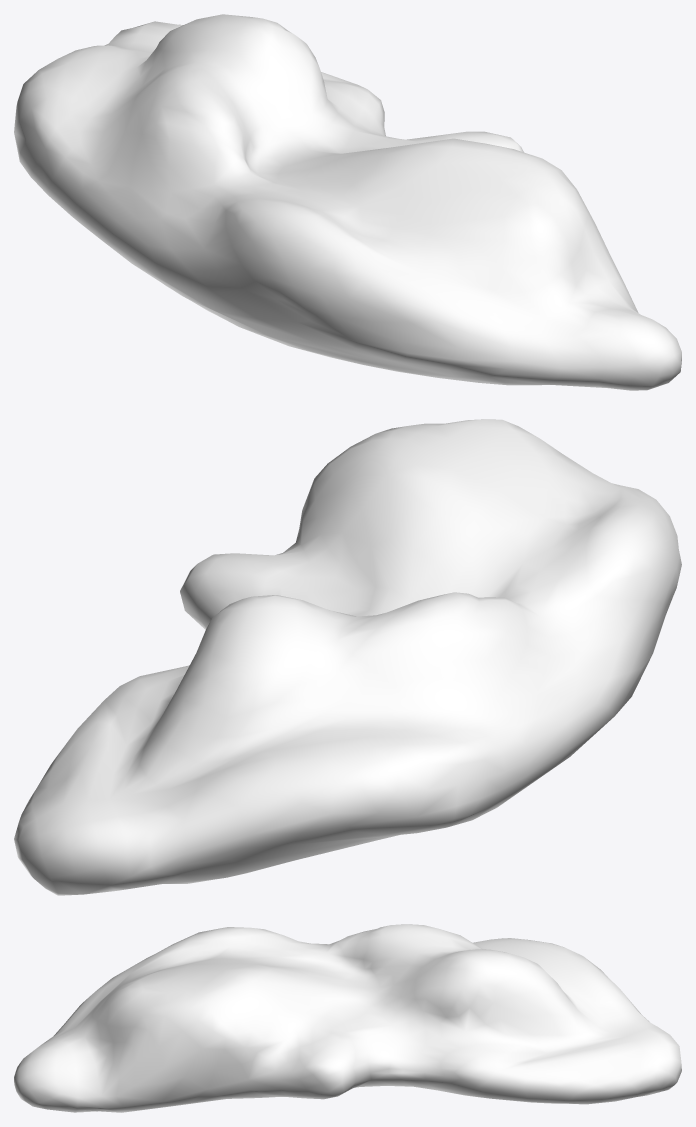
File: Cloud03.fbx
3 views of the same model, one above another, from view 1: azimuth 30°, elevation 25°; view 2: azimuth 150°, elevation 25°; view 3: azimuth 270°, elevation 25° (orthographic). The views are drawn at different scales.
Parts seen in each view (by area): view 1: Cloud03; view 2: Cloud03; view 3: Cloud03.
Part boxes in pixels (bbox=[...]): Cloud03: bbox=[14, 14, 681, 390]; Cloud03: bbox=[14, 419, 681, 895]; Cloud03: bbox=[14, 924, 681, 1112].
Bounding box in the file's own units: 1437 × 669 × 3133.
